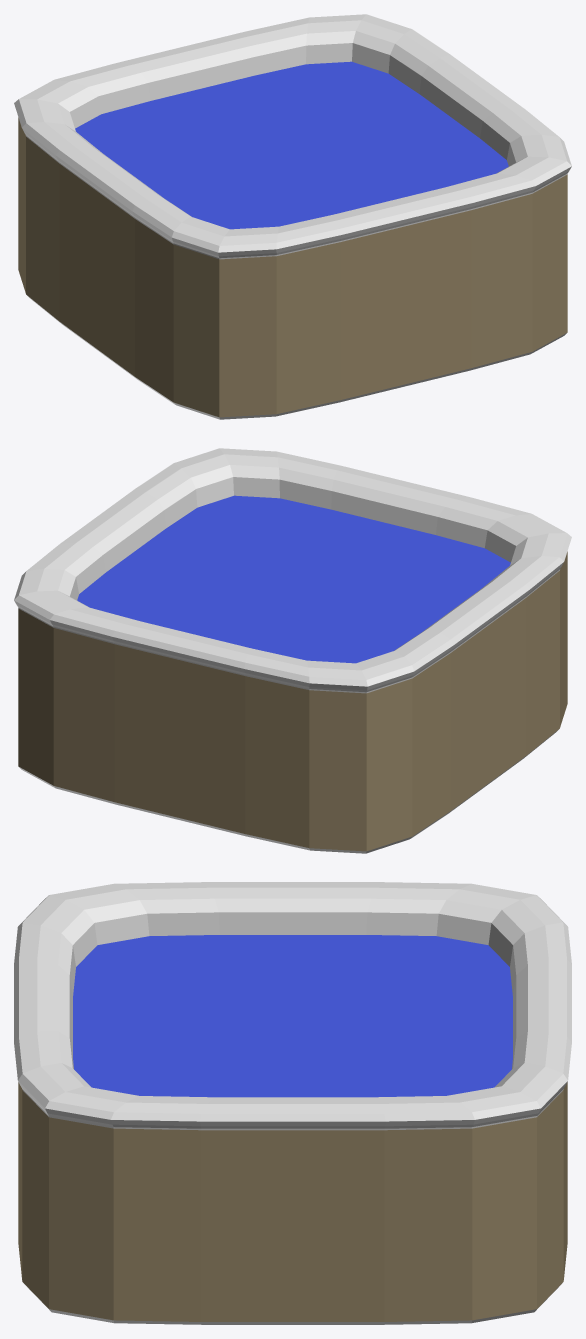
The model's file is HotTub_01.fbx.
3 views of the same model, one above another, from view 1: azimuth 30°, elevation 25°; view 2: azimuth 150°, elevation 25°; view 3: azimuth 270°, elevation 25° (orthographic). The views are drawn at different scales.
Visible parts, largest first — view 1: Base, Water; view 2: Base, Water; view 3: Base, Water.
Boxes of the visible parts, x1,y1,x2,y2 form: Base: [14, 14, 571, 419]; Water: [75, 61, 508, 229]; Base: [14, 448, 571, 853]; Water: [77, 495, 510, 663]; Base: [14, 882, 571, 1324]; Water: [73, 935, 512, 1097].
Size of the model in its own units: 344 by 149 by 344.
